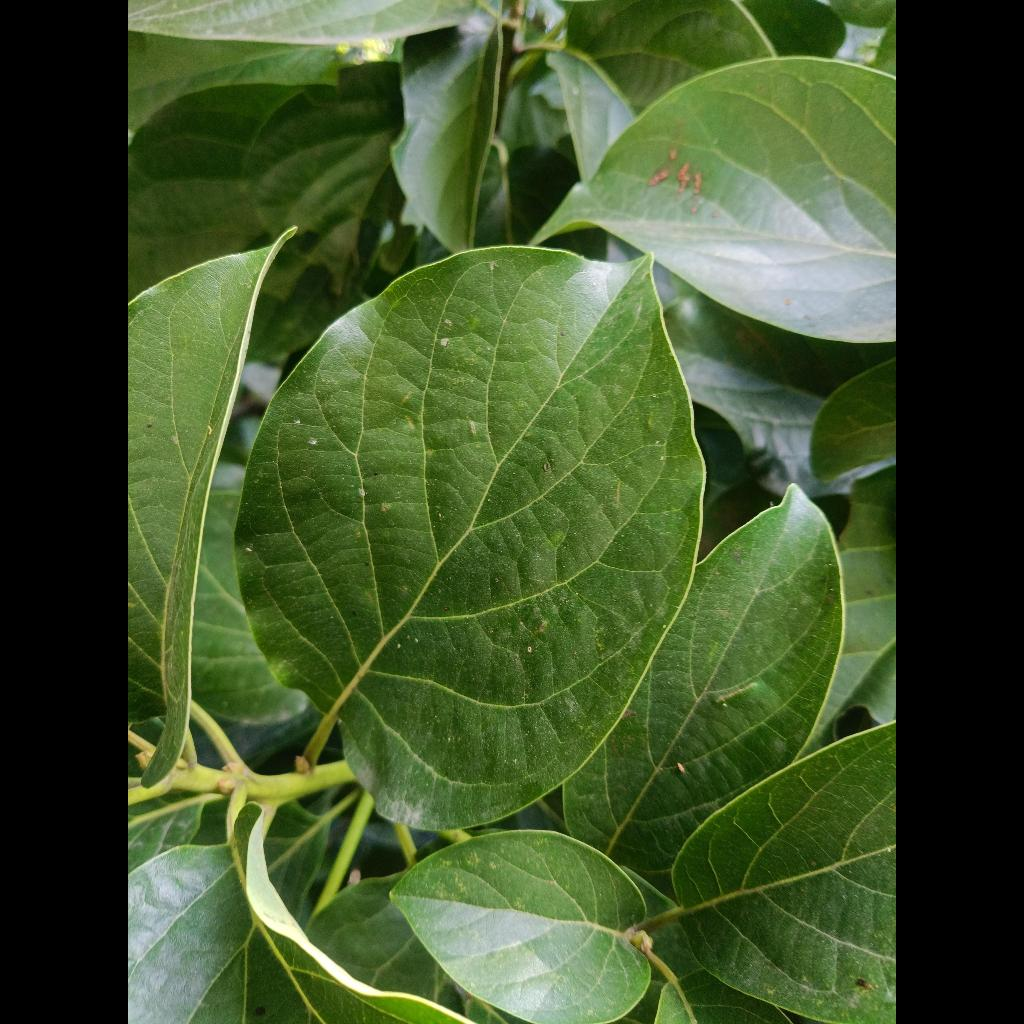Healthy: (237, 247, 703, 829), (394, 831, 650, 1024)
